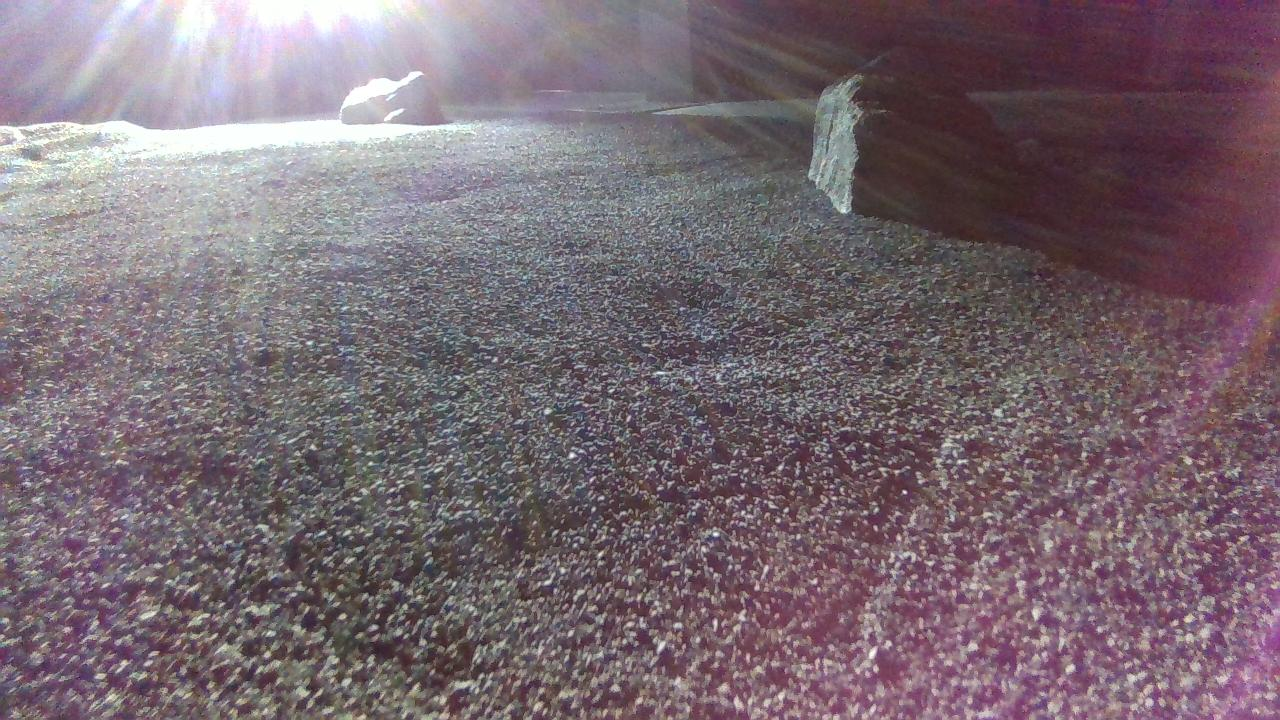rock: (807, 55, 1014, 215), (339, 69, 445, 123)
